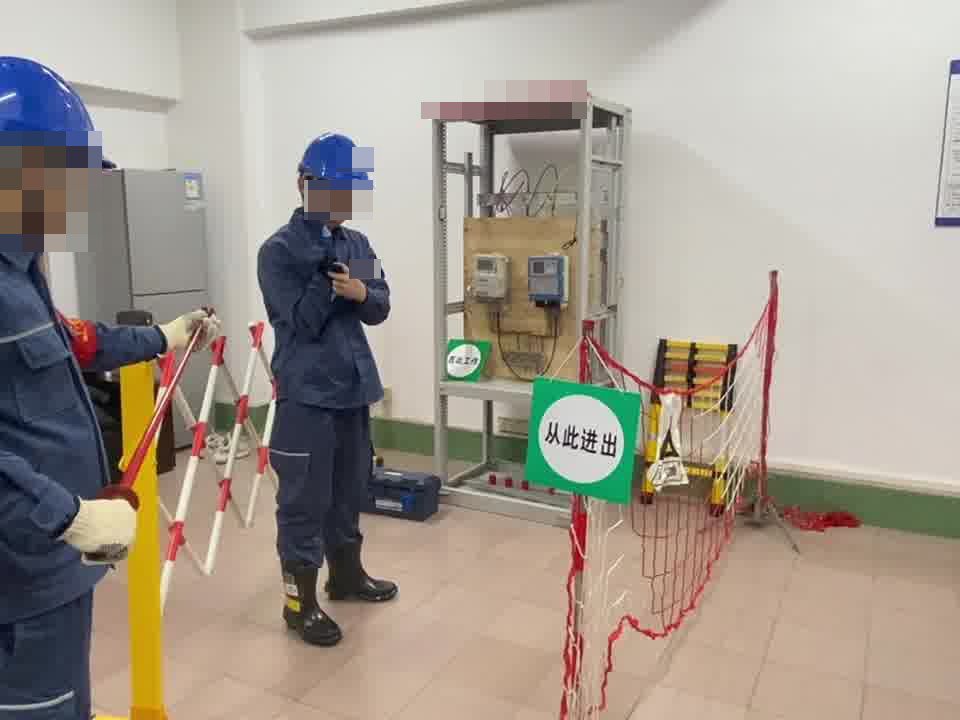badge: (54, 305, 98, 374)
downsuit: (270, 417, 378, 592)
halt: (1, 50, 108, 244), (296, 131, 373, 225)
hand: (328, 258, 367, 303)
inear: (2, 135, 70, 214), (295, 167, 321, 207)
intosign: (524, 376, 644, 506)
person: (1, 46, 173, 717), (249, 129, 405, 654)
shoe: (278, 537, 398, 648)
testrod: (95, 306, 216, 505)
upsuit: (1, 222, 171, 586), (257, 212, 393, 406)
wglove: (56, 494, 138, 556), (156, 306, 223, 352)
worksign: (443, 338, 494, 385)
